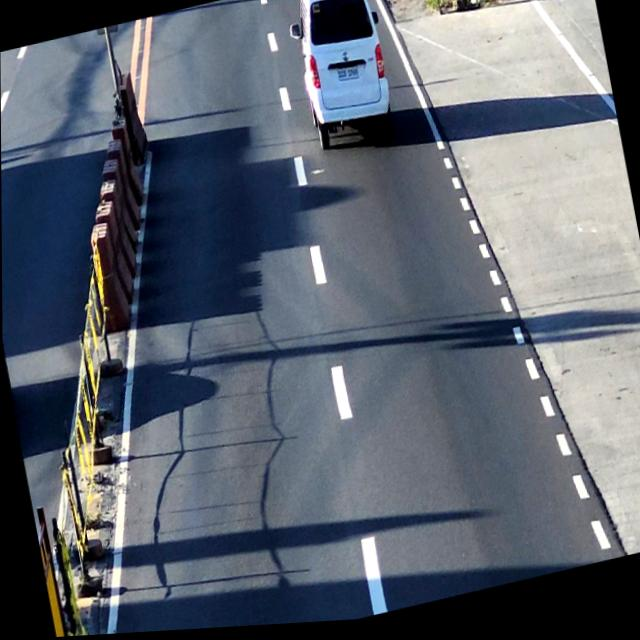Car: (290, 0, 397, 159), (336, 68, 359, 87)
